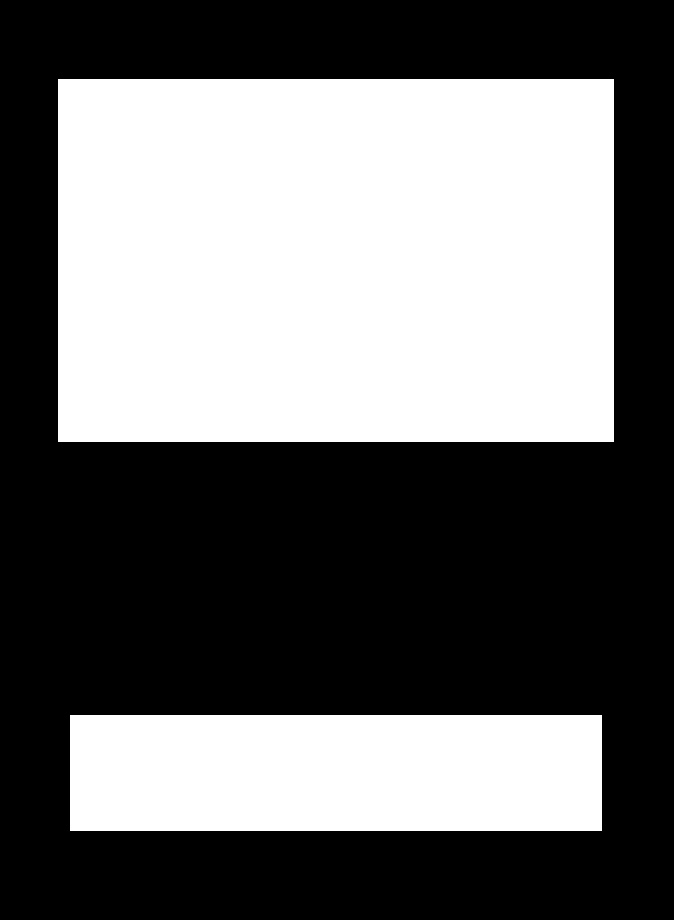table: (58, 79, 613, 441), (70, 715, 601, 830)
